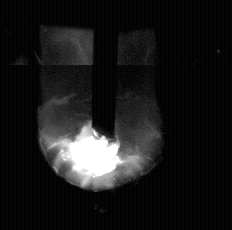arame: (93, 0, 117, 144)
poca: (38, 0, 162, 230)
